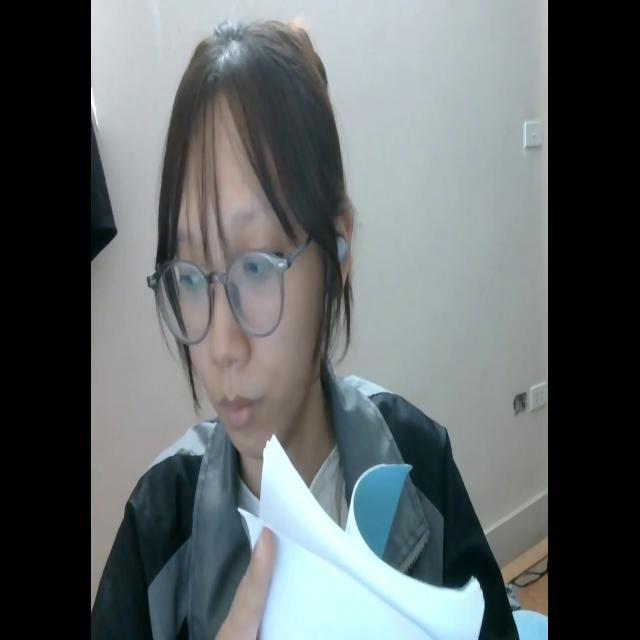book: (234, 424, 481, 640)
student: (102, 15, 515, 640)
